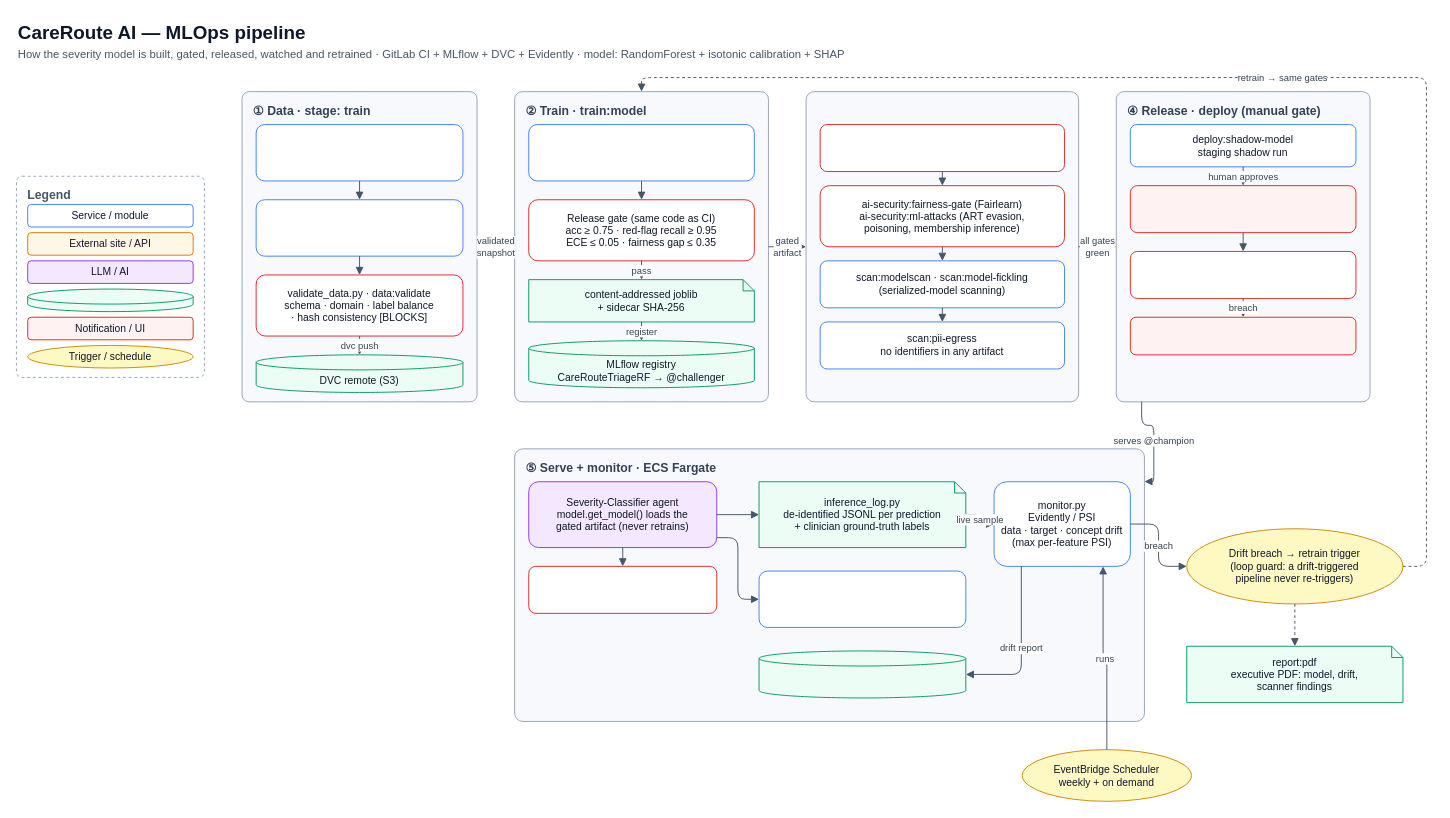
This 1450x818 diagram has some shape labels left out. Here are the shapes that lost their labels. From the top down, the box of each, then its label:
(255, 124, 463, 181): ml/data.py seeded synthetic triage set (65+ band deliberately thin)
(528, 124, 754, 181): train.py fit RF + isotonic · SHAP run_context: commit, env, libs
(819, 124, 1065, 172): test:model-gate · test:data-lineage (dataset hash == model's training hash)
(255, 199, 463, 256): export_dataset.py snapshot .npz + SHA-256 + stats, splits, provenance
(1129, 185, 1356, 233): deploy:promote-production promote.py: @challenger → @champion
(805, 91, 1079, 402): ③ Gates · test + ai-security + security-scan
(1129, 251, 1356, 298): canary.py · 5 → 25 → 50 → 100 % auto-rollback on metric breach
(27, 288, 193, 312): Storage
(1129, 316, 1356, 355): rollback:production
(528, 565, 717, 613): feature_contract.py rejects train/serve skew at load
(758, 570, 966, 627): Prometheus metrics class mix · confidence · latency · tokens and cost per model
(758, 650, 966, 698): S3 telemetry bucket
